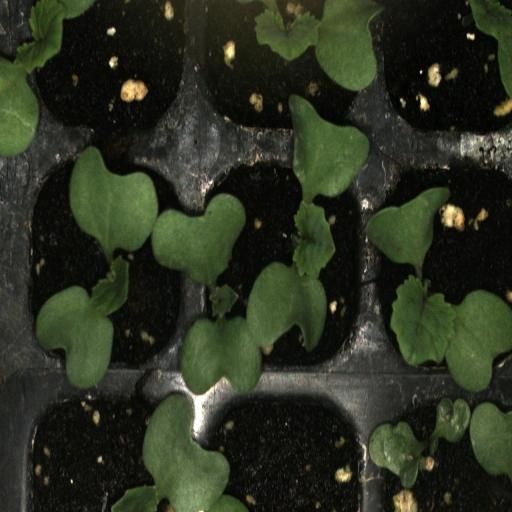Folha: (364, 187, 449, 268), (467, 0, 512, 97), (368, 421, 423, 489)
Germinacao: (194, 143, 370, 385), (24, 145, 197, 387), (373, 146, 512, 384), (21, 0, 200, 150), (192, 0, 374, 141), (371, 386, 512, 512)
